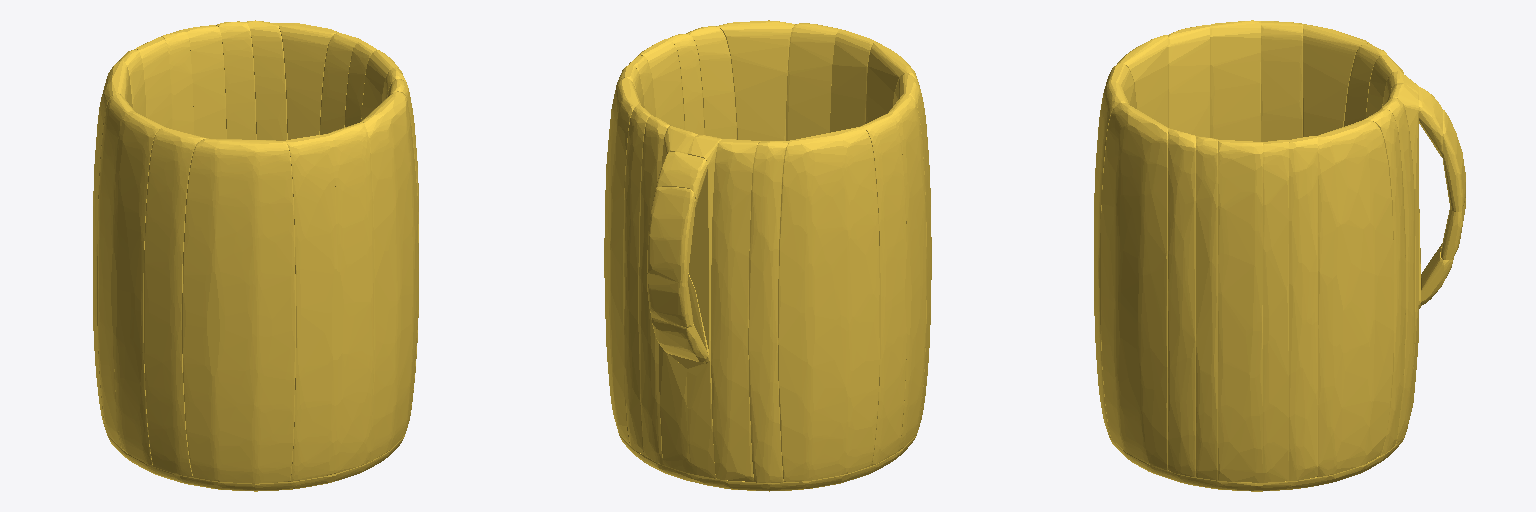
URDF robot description (812.urdf):
<?xml version="1.0" ?>
<robot name="812.urdf">
	<link name="baseLink">
		<inertial>
			<origin rpy="0 0 0" xyz="0 0 0"/>
				<mass value="0.1"/>
				<inertia ixx="6e-5" ixy="0" ixz="0" iyy="6e-5" iyz="0" izz="6e-5"/>
		</inertial>
		<visual>
			<origin rpy="0 0 0" xyz="0 0 0"/>
			<geometry>
				<mesh filename="26_decom_wt.obj" scale="0.97 0.97 1.12"/>
			</geometry>
			<material name="yellow">
				<color rgba="0.98 0.84 0.35 1"/>
			</material>
		</visual>
		<collision>
			<origin rpy="0 0 0" xyz="0 0 0"/>
			<geometry>
				<mesh filename="26_decom_wt.obj" scale="0.97 0.97 1.12"/>
			</geometry>
		</collision>
	</link>
</robot>

--- What the picture shows (computed from the rendered views, not written in the file) ---
Views: 3 orthographic renders of the robot side by side, from view 1: azimuth 30°, elevation 25°; view 2: azimuth 150°, elevation 25°; view 3: azimuth 270°, elevation 25°.
Model 812.urdf with 1 links and 0 joints (none), rooted at baseLink, posed every joint at zero.
Links seen in each view (by area): view 1: baseLink; view 2: baseLink; view 3: baseLink.
Boxes of the visible links, x1,y1,x2,y2 form: baseLink: [93, 20, 418, 491]; baseLink: [604, 20, 931, 491]; baseLink: [1094, 20, 1465, 491].
Bounding box of the posed robot: 0.1065 × 0.1214 × 0.1259 m (x, y, z).
Meshes: 1 distinct files referenced, 1 mesh visuals loaded (1 OBJ).